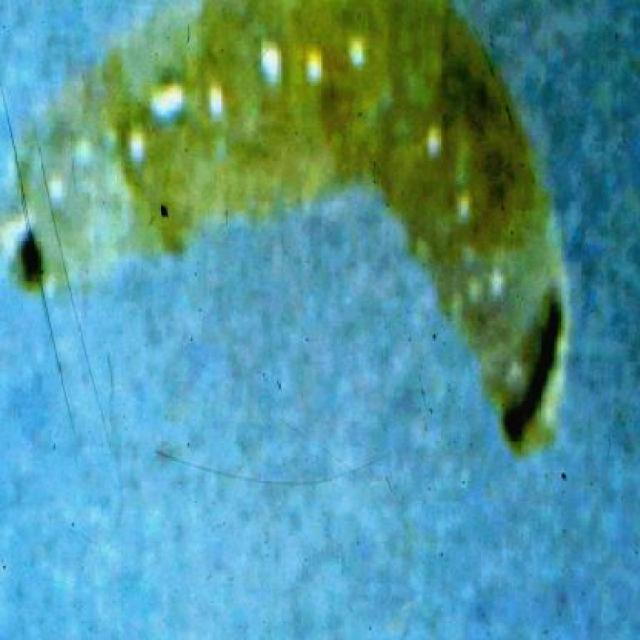whorl-maggot: (1, 3, 573, 474)
